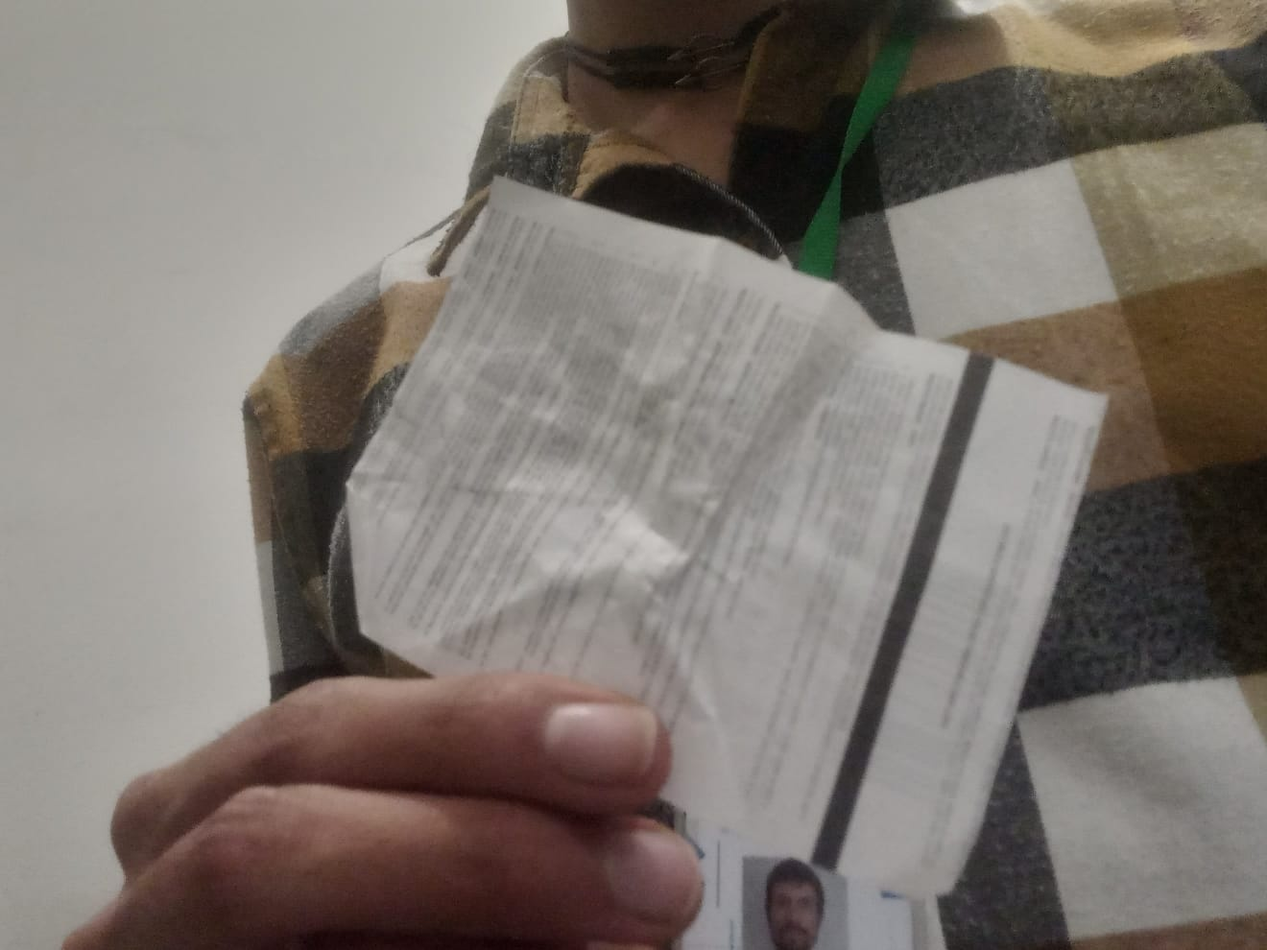Papel: (343, 174, 1111, 900)
